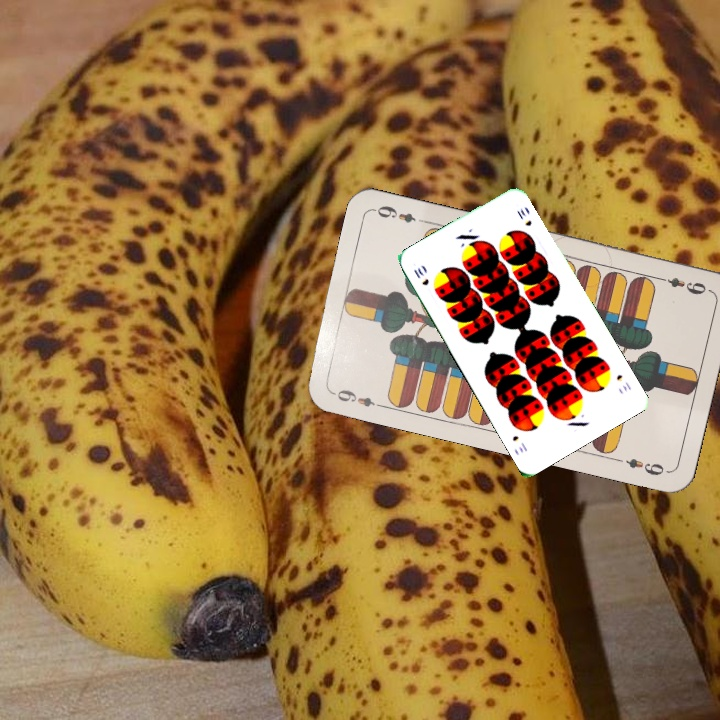E9: (653, 272, 712, 298), (328, 385, 386, 411)
S10: (612, 370, 634, 394), (410, 263, 431, 288)
